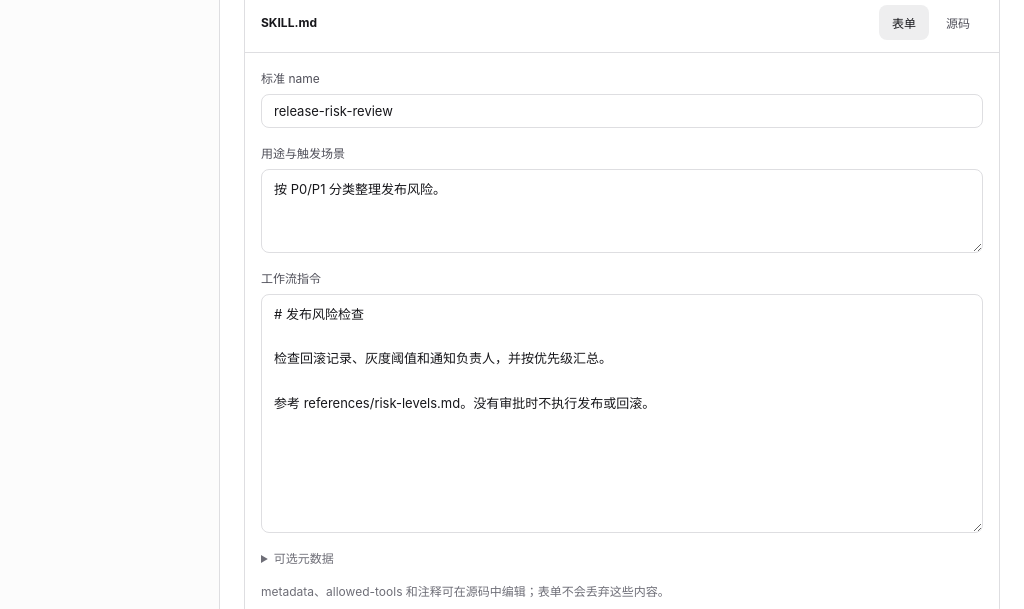
Skill file package editor › does not report saving success on persistence failure and retains edits
(page scrolled)
Replace the text in the text box named "Skill 工作流指令" with "keep these edits": (622, 414) x1=261 y1=294 x2=983 y2=533
(page scrolled)
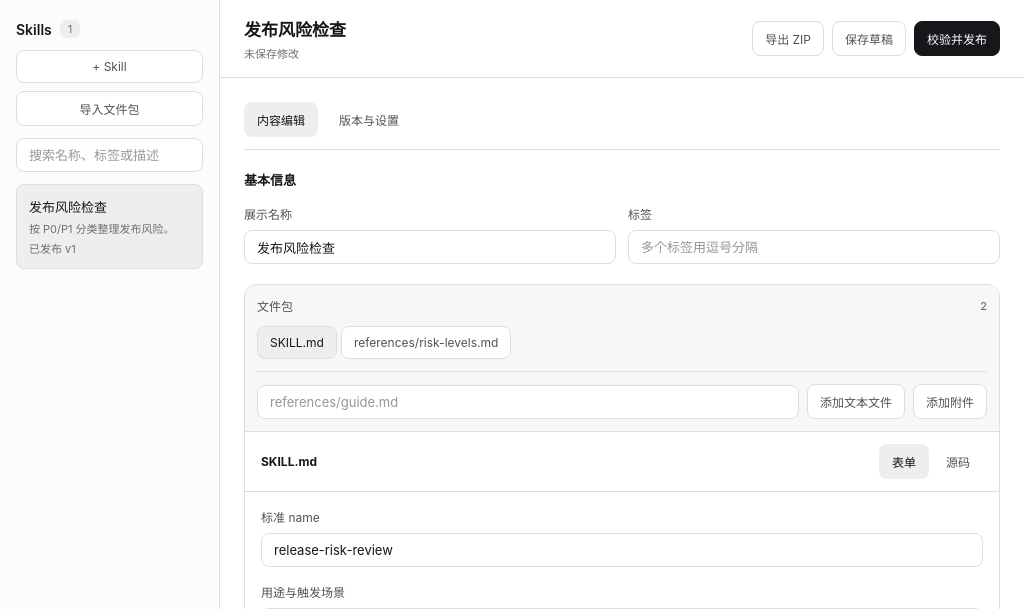
Click the button "保存草稿": (869, 38) x1=832 y1=21 x2=906 y2=56
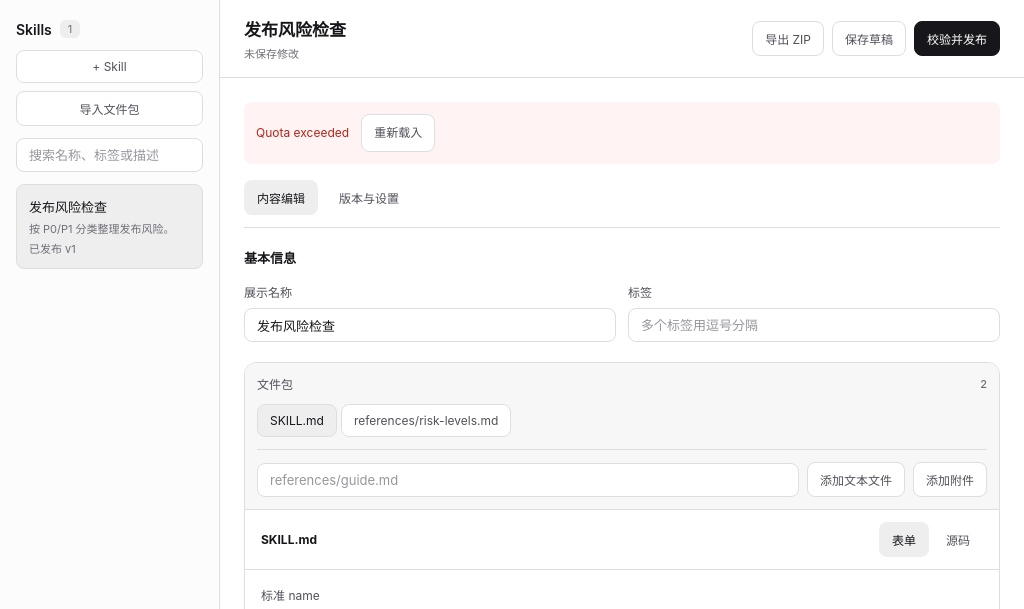
Expected: the text "未保存修改" is shown, x1=244 y1=47 x2=299 y2=61
Expected: the text "Quota exceeded" is shown, x1=256 y1=125 x2=349 y2=140
